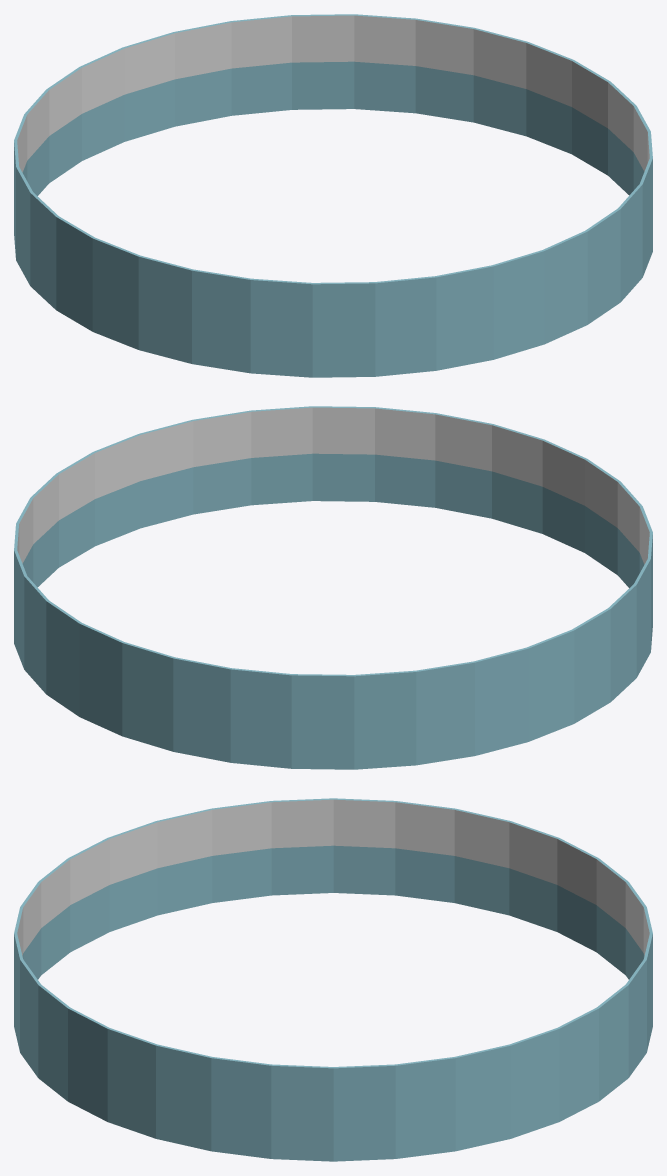
File: band.fbx
3 renders of one model, top to bottom at view 1: azimuth 30°, elevation 25°; view 2: azimuth 150°, elevation 25°; view 3: azimuth 270°, elevation 25°, orthographic.
Visible parts, largest first — view 1: Circle; view 2: Circle; view 3: Circle.
Part boxes in pixels (left/top/right/bottom): Circle: left=14, top=14, right=652, bottom=377; Circle: left=14, top=406, right=652, bottom=769; Circle: left=14, top=798, right=652, bottom=1161.
Bounding box in the file's own units: 202 × 32.54 × 202.
